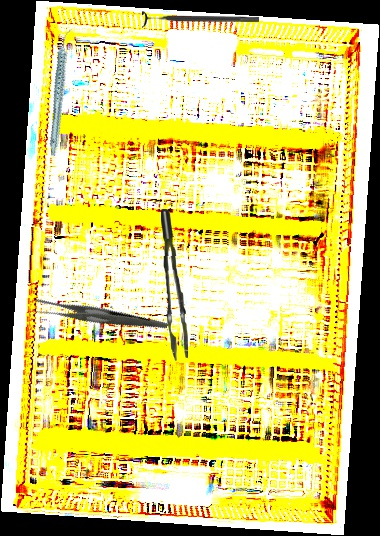Dressing Forceps: (30, 264, 169, 370)
Fixation Ring: (142, 10, 259, 29)
Handpiece: (24, 27, 98, 158)
Tissue Forceps: (158, 208, 191, 362)
